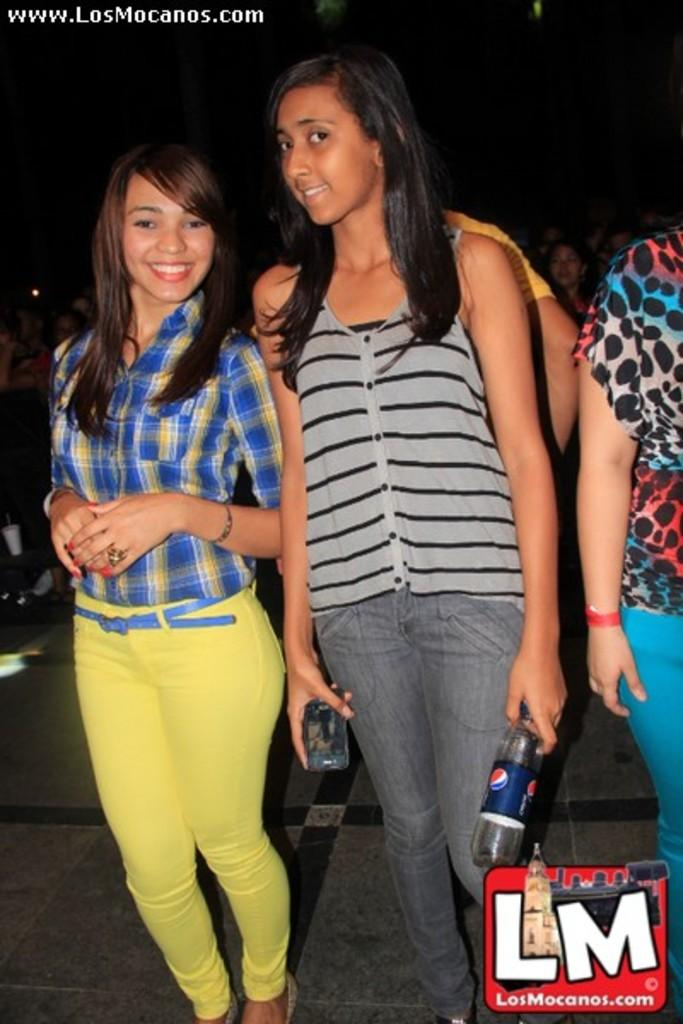no_helmet: (281, 49, 388, 194), (163, 112, 268, 245)
none: (266, 260, 480, 618), (133, 306, 319, 649), (479, 206, 580, 707)
